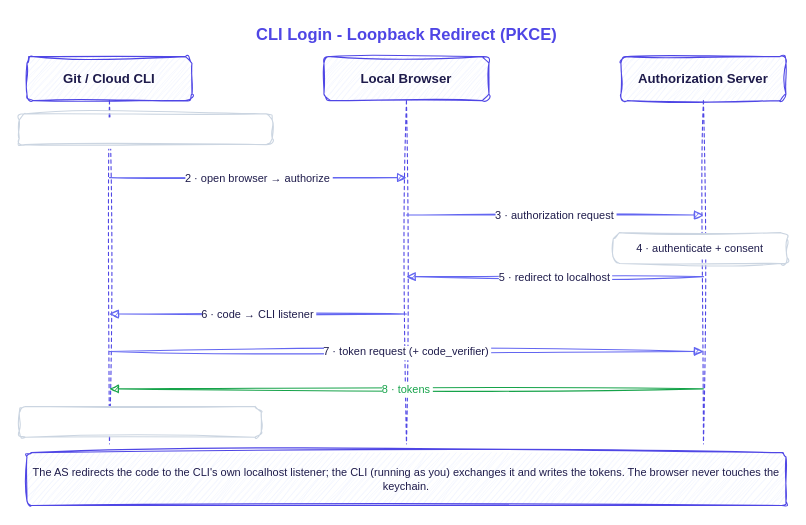
Some shapes in this 806 by 525 pixel diagram are drawn without their labels. The shapes that lost their labels are listed below. From the top down, each one's box as (x1, y1, x2, y2) in pixels, then its label:
(18, 113, 272, 145): 1 · start localhost listener + PKCE
(18, 405, 261, 437): 9 · store tokens in OS keychain
